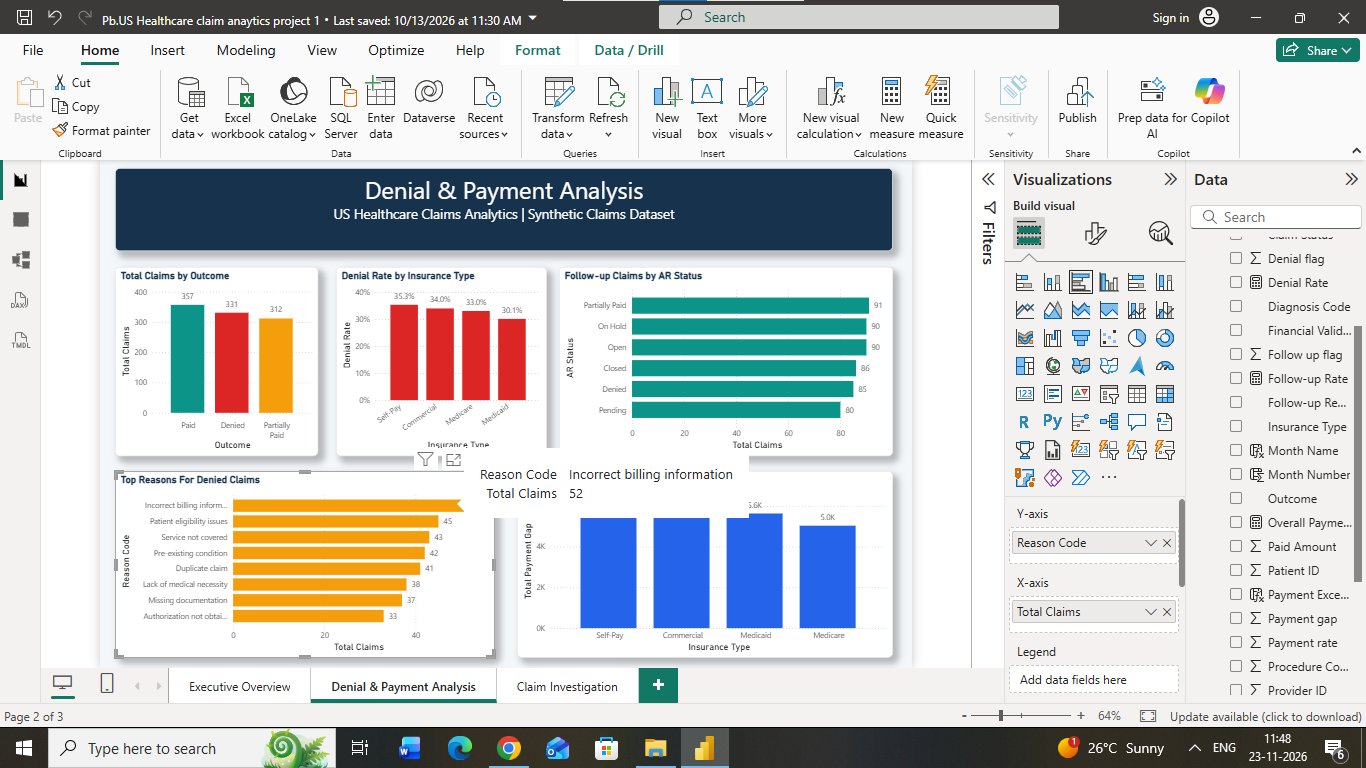

The dashboard page shown, as its layout file describes it:
{"tool":"powerbi","page":{"name":"Denial & Payment Analysis","canvas":[1280,800],"ordinal":1},"visuals":[{"type":"clusteredColumnChart","fields":{"Category":["claim_data.Outcome"],"Y":["claim_data.Total Claims"]},"box":[23.6,168.5,319.7,297.6],"z":0},{"type":"clusteredBarChart","title":"Top Reasons For Denied Claims","fields":{"Category":["claim_data.Reason Code"],"Y":["claim_data.Total Claims"]},"box":[23.6,489.8,598.4,294.5],"z":1000},{"type":"clusteredColumnChart","fields":{"Category":["claim_data.Insurance Type"],"Y":["claim_data.Denial Rate"]},"box":[371.7,168.5,332.3,297.6],"z":2000},{"type":"clusteredColumnChart","fields":{"Category":["claim_data.Insurance Type"],"Y":["claim_data.Total Payment Gap"]},"box":[656.7,489.8,592.1,294.5],"z":3000},{"type":"clusteredBarChart","title":"Follow-up Claims by AR Status","fields":{"Category":["claim_data.AR Status"],"Y":["claim_data.Total Claims"]},"box":[722.8,168.5,526,297.6],"z":4000},{"type":"textbox","box":[23.6,12.6,1225.2,130.7],"z":5000}]}

Visuals, with their boxes on the page's 1280x800 design canvas (x1, y1, x2, y2). These are canvas units, not pixel positions in the 1366x768 screenshot, which may show the page scaled, cropped or inside an application window:
clusteredColumnChart - claim_data.Outcome x claim_data.Total Claims: 24/168/343/466
"Top Reasons For Denied Claims" clusteredBarChart: 24/490/622/784
clusteredColumnChart - claim_data.Insurance Type x claim_data.Denial Rate: 372/168/704/466
clusteredColumnChart - claim_data.Insurance Type x claim_data.Total Payment Gap: 657/490/1249/784
"Follow-up Claims by AR Status" clusteredBarChart: 723/168/1249/466
textbox: 24/13/1249/143
